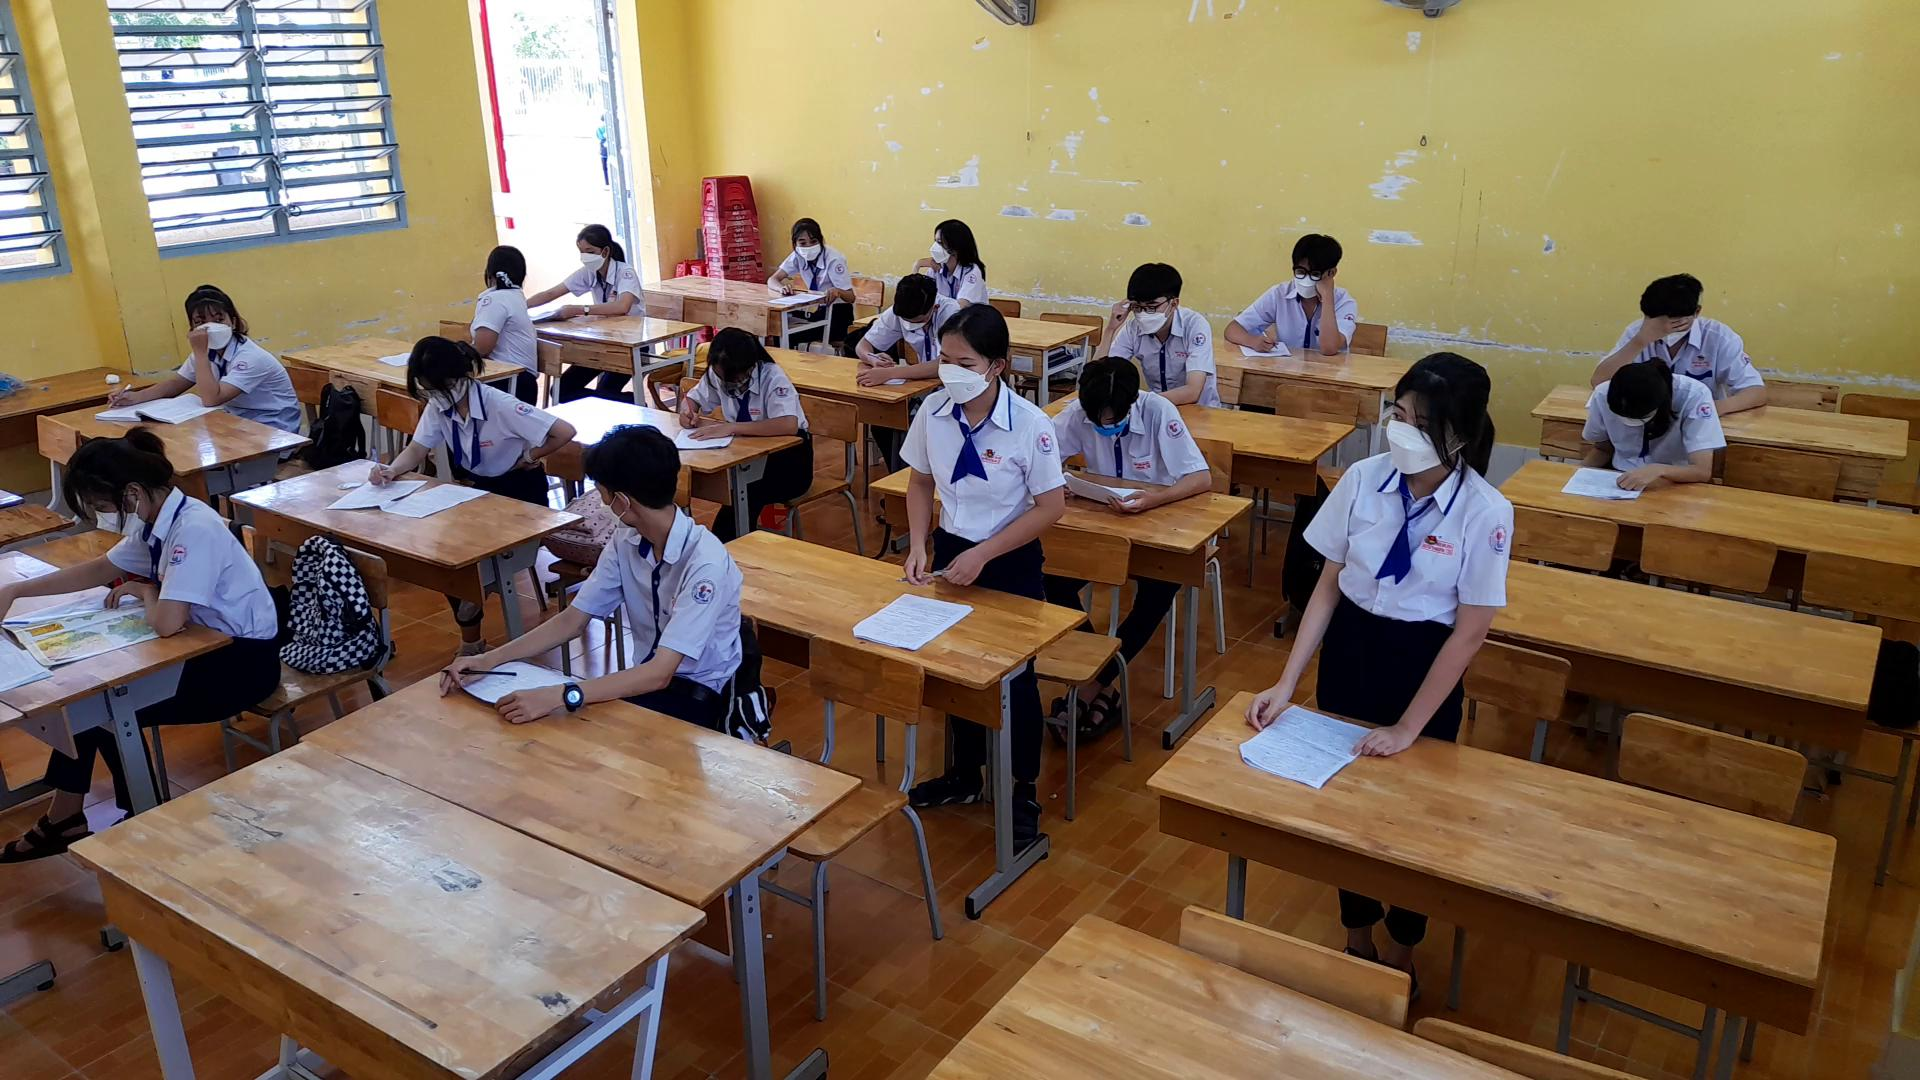Bend Over The Desk: (1597, 347, 1681, 433)
Hand Under Table: (1575, 390, 1611, 479)
Look Around: (570, 415, 687, 541), (456, 225, 527, 303)
Normal: (32, 423, 284, 661), (1050, 344, 1220, 514), (674, 318, 812, 448), (752, 198, 870, 320), (530, 203, 647, 324), (847, 268, 943, 386)
Stand Up: (1240, 344, 1518, 762), (891, 301, 1071, 588)
Wave: (492, 384, 580, 476), (183, 316, 251, 411), (1305, 272, 1356, 361), (1088, 280, 1141, 357)
